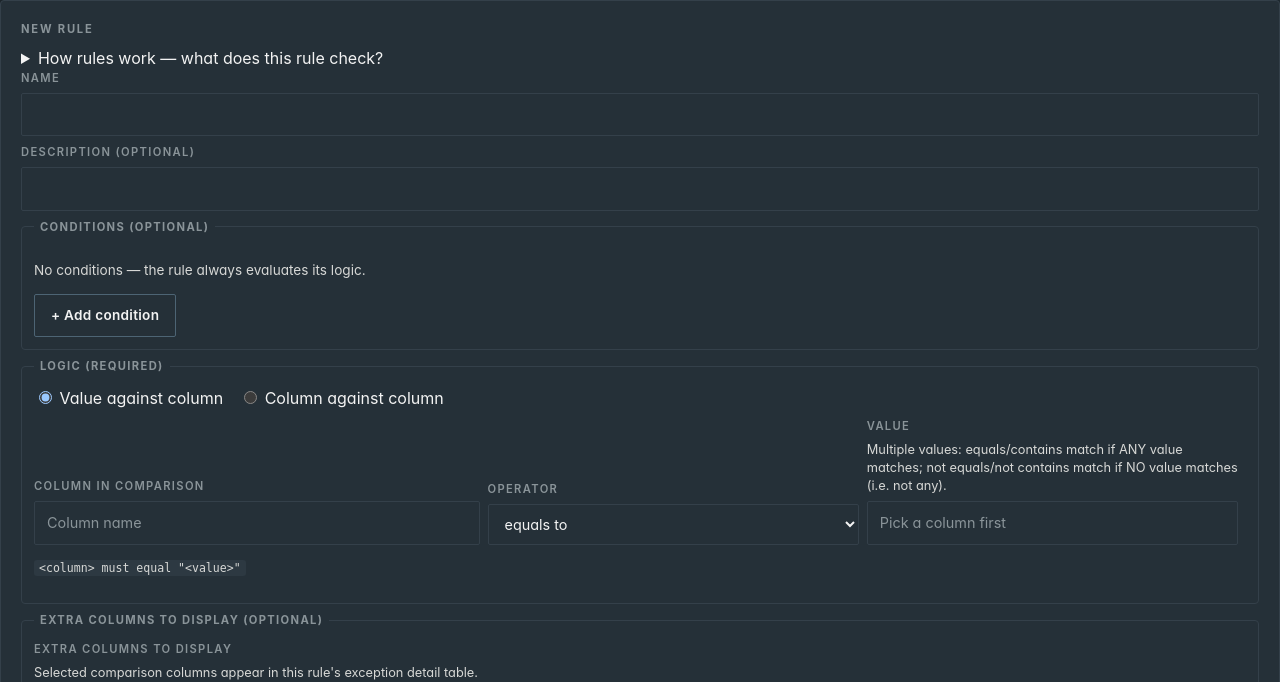
Test: RuleEditor › shows condition numbers in add/edit rows
Click the button "+ Add condition". click: point(105, 315)
box: [34,294,176,337]
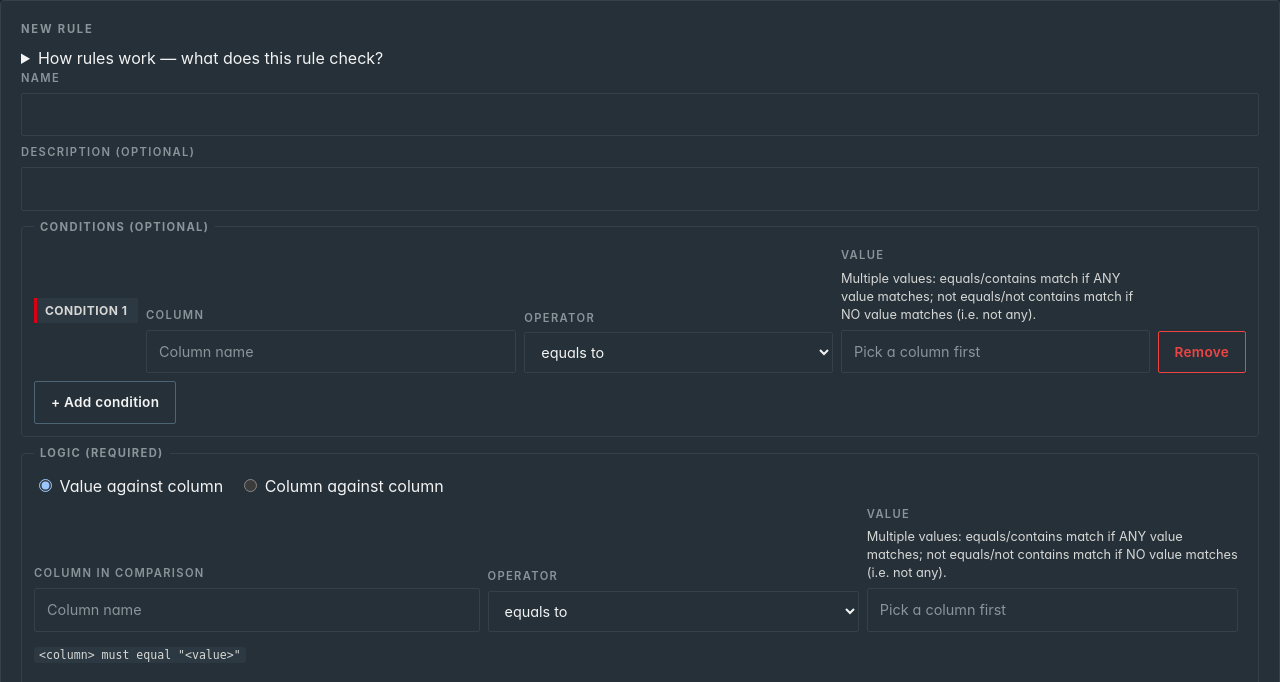
Click the button "+ Add condition". click: point(105, 403)
box: [34,381,176,424]
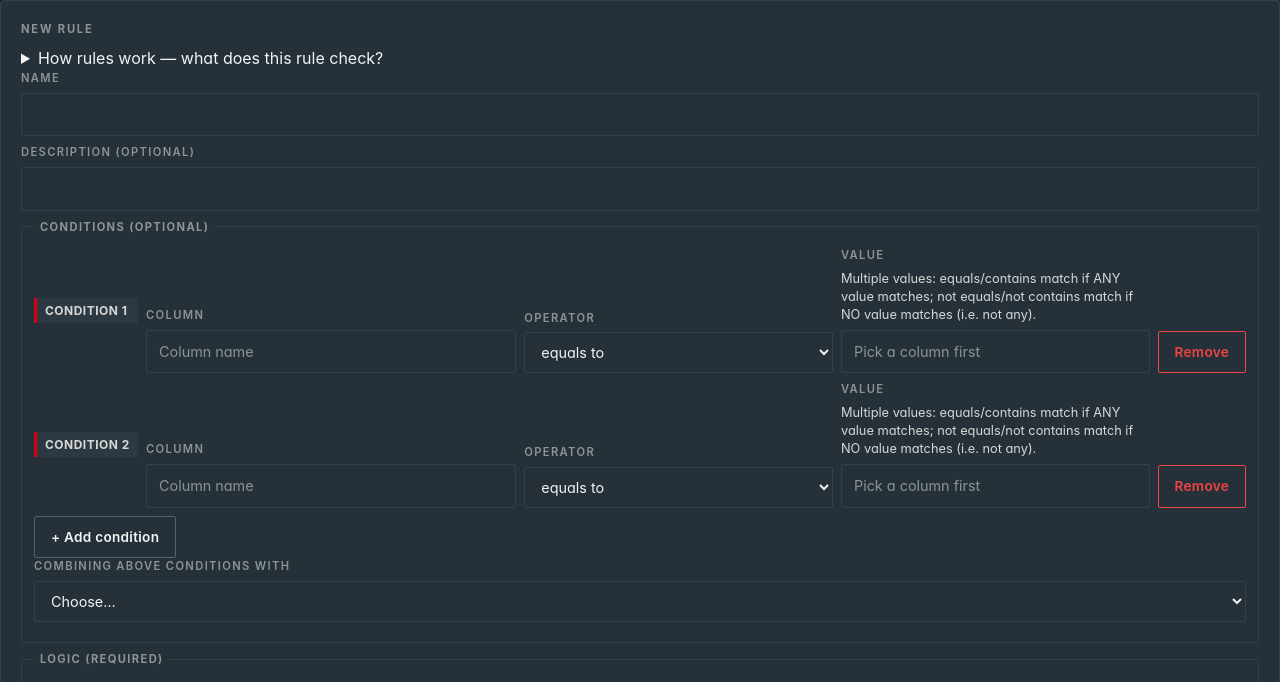
Expected: the text "Condition 1" is shown, [34,298,138,323]
Expected: the text "Condition 2" is shown, [34,432,138,457]
